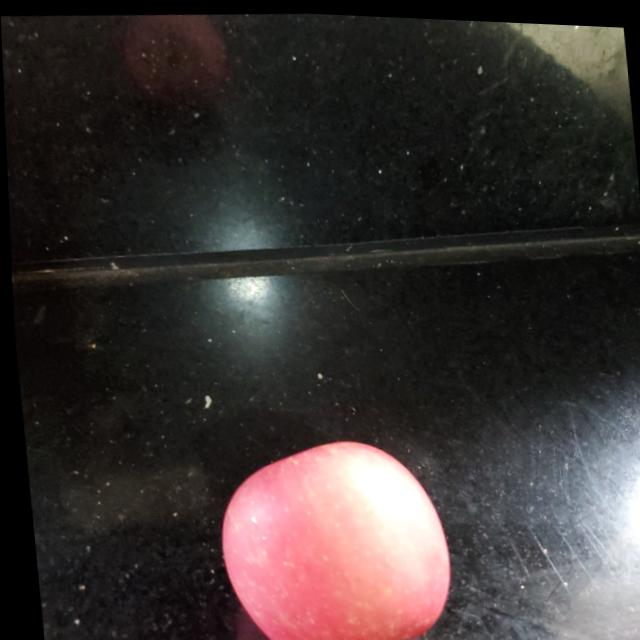apple: (206, 431, 453, 640)
